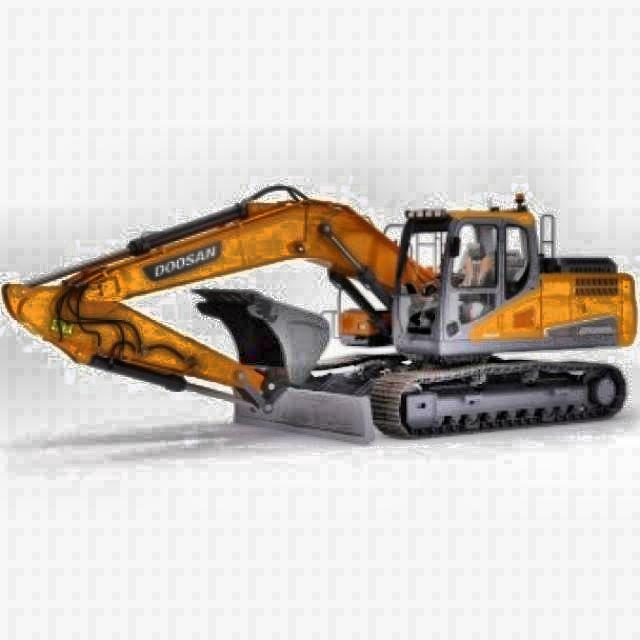bull_dozer/loader/grader: (0, 178, 640, 454)
person: (457, 242, 493, 288)
